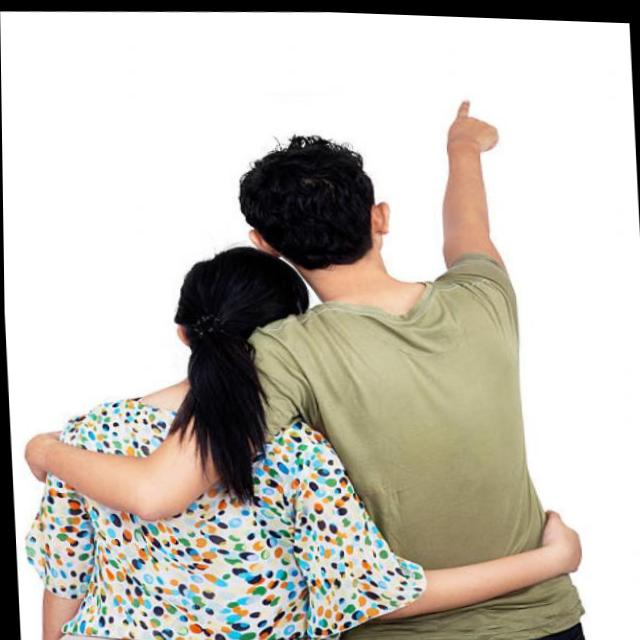no helmet: (222, 127, 402, 266), (172, 239, 317, 351)
